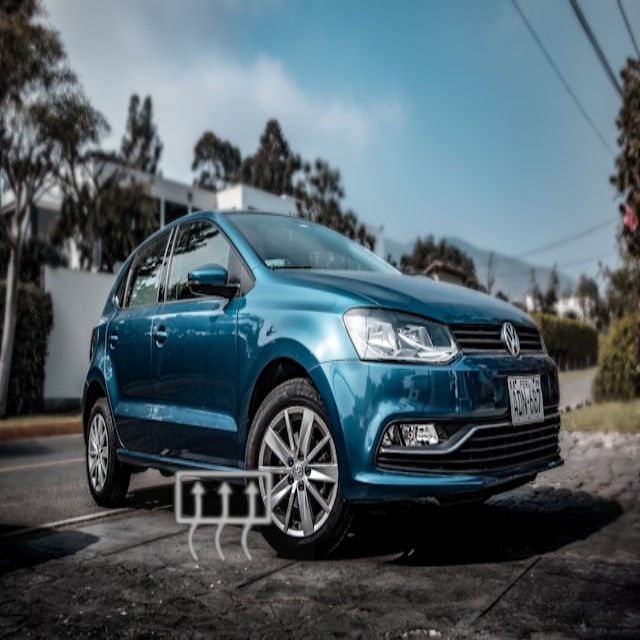symbol: (135, 429, 314, 608)
